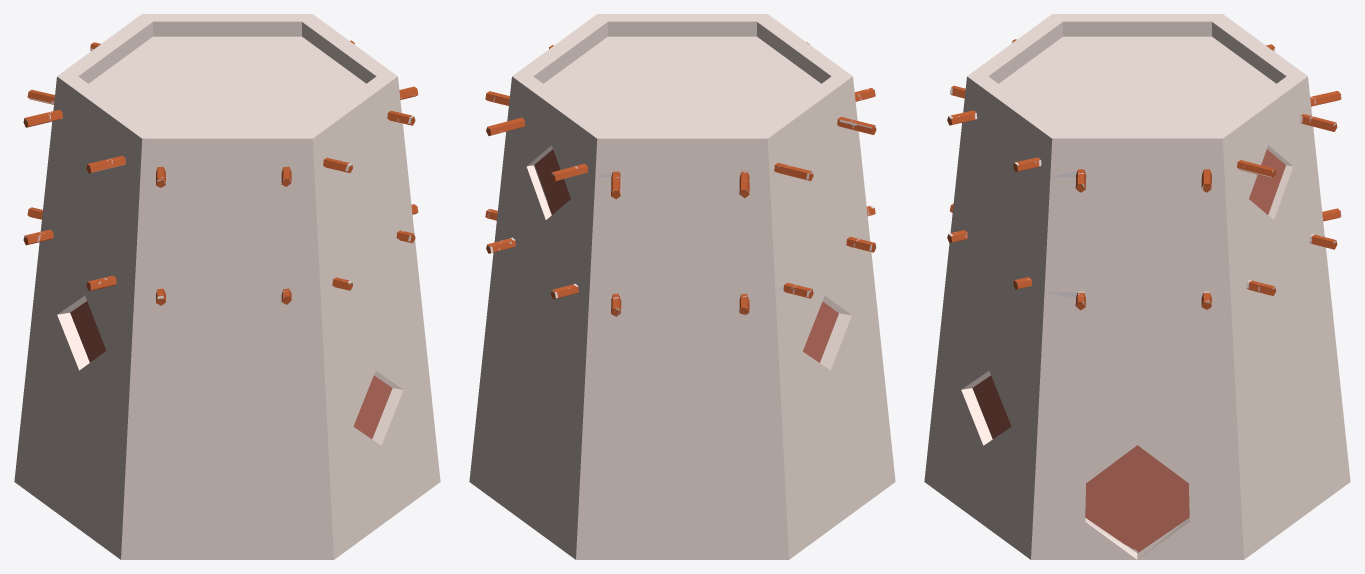
The model's file is Bighouse.glb.
The picture shows the model from 3 angles, left to right: view 1: azimuth 30°, elevation 25°; view 2: azimuth 150°, elevation 25°; view 3: azimuth 270°, elevation 25°; orthographic projection.
Visible parts, largest first — view 1: BigHouse; view 2: BigHouse; view 3: BigHouse.
Part boxes in pixels (bbox=[...]): BigHouse: bbox=[14, 14, 440, 559]; BigHouse: bbox=[469, 14, 895, 559]; BigHouse: bbox=[924, 14, 1350, 559].
Bounding box in the file's own units: 3.52 × 4.2 × 4.
Materials: 1 (1 with a texture image).
